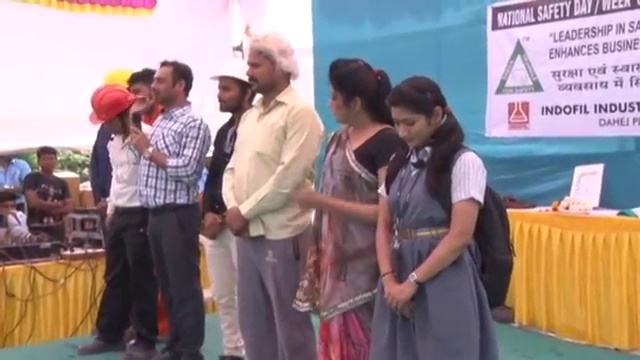helmet: (89, 85, 130, 125), (210, 60, 249, 86)
helmet_off: (384, 72, 455, 158), (325, 52, 389, 140), (240, 32, 303, 98), (144, 60, 194, 114), (118, 72, 154, 106), (31, 148, 55, 177), (0, 191, 19, 222)
helmet_on: (206, 60, 250, 119), (88, 86, 135, 137)
person: (368, 69, 517, 357), (207, 31, 325, 360), (302, 40, 399, 360), (129, 59, 211, 360), (75, 79, 158, 358), (202, 49, 258, 360), (22, 148, 69, 252), (0, 153, 31, 191)
